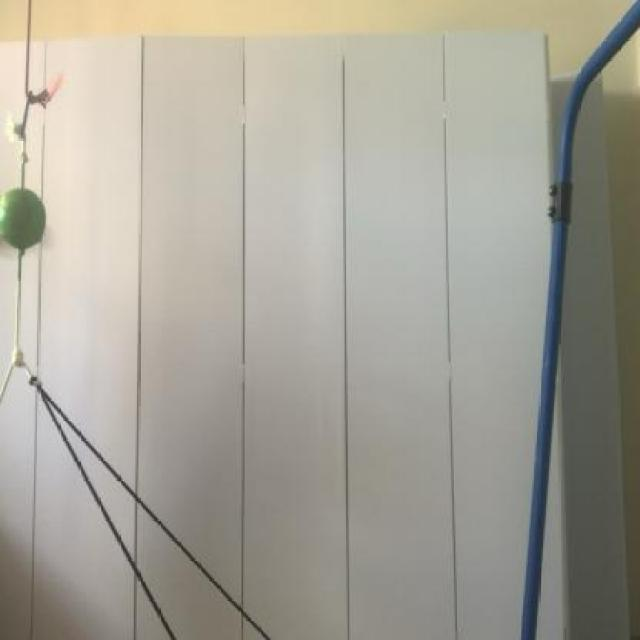baseball: (0, 172, 54, 266)
